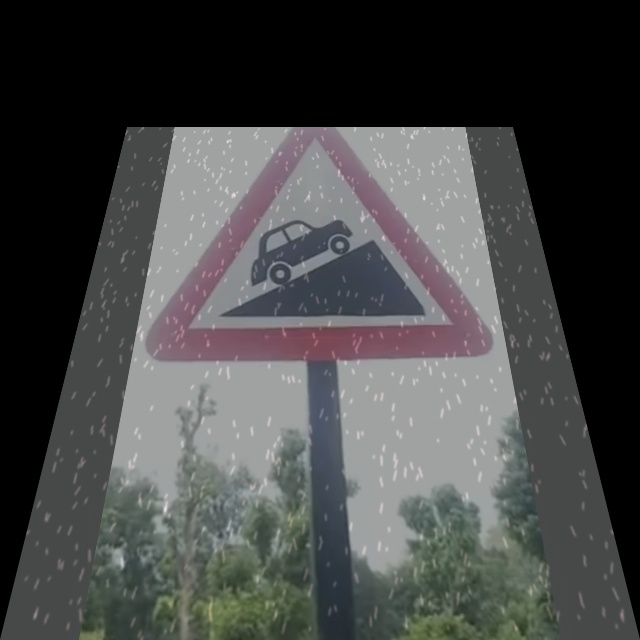Steep_Ascent: (175, 149, 461, 349)
